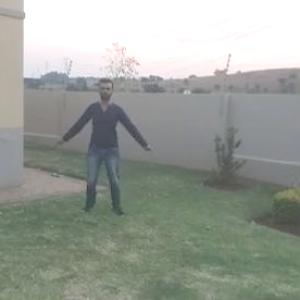land: (57, 76, 168, 217)
